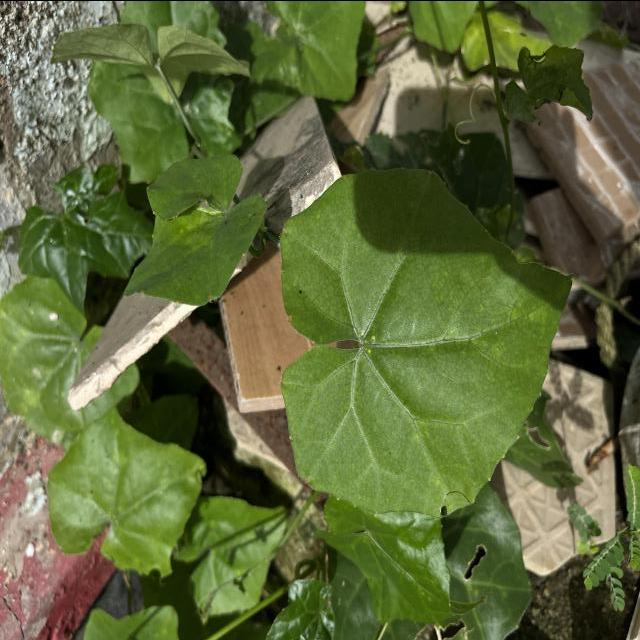Coccinia grandis: (278, 163, 576, 522)
